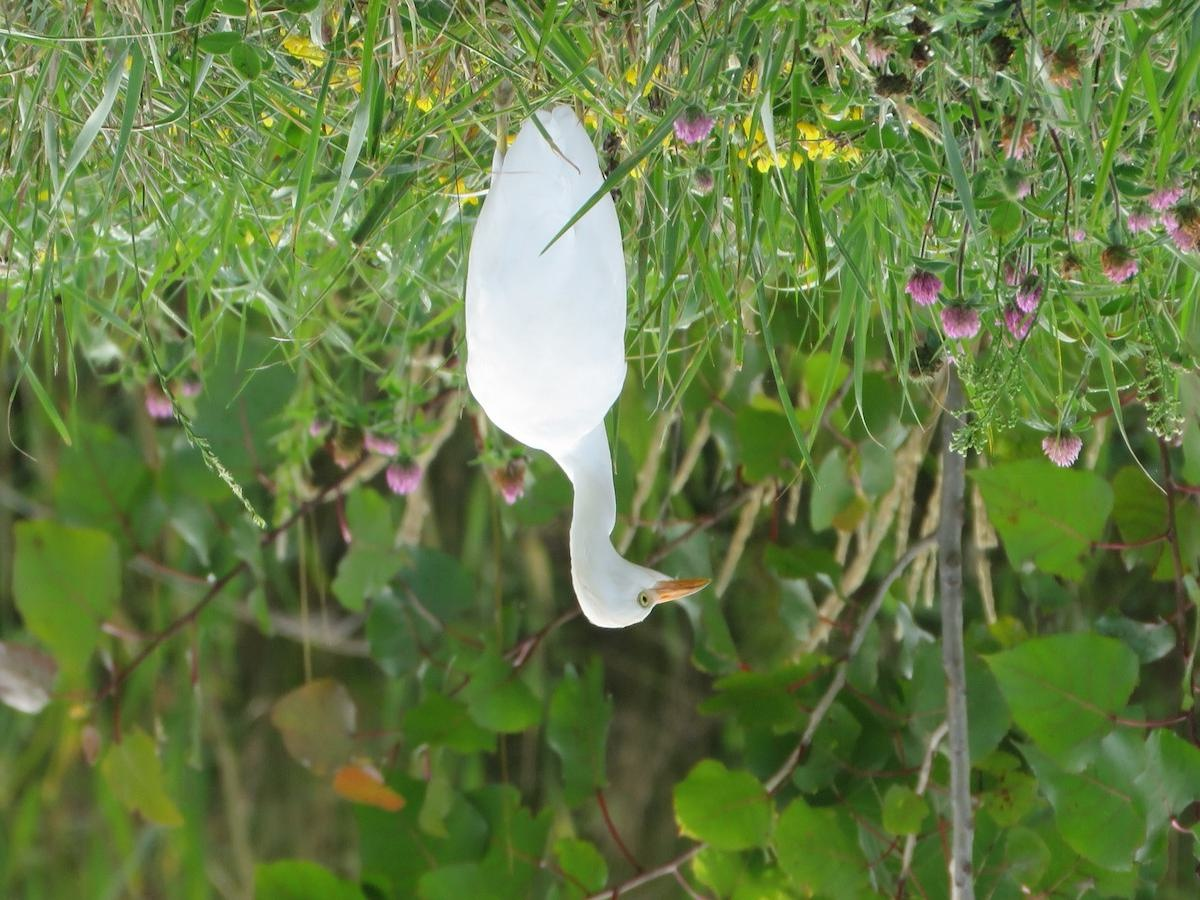egret: (451, 96, 720, 641)
